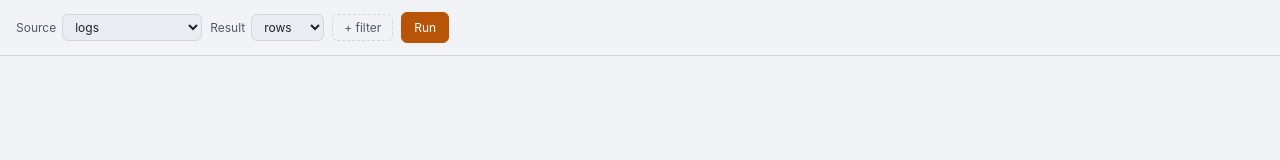
Scenario: QueryView › renders a short cell as plain text with no copy button
Click the button "Run" at (425, 28), box [401,12,449,43]
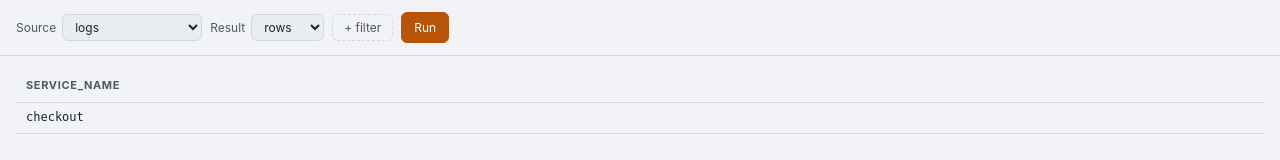
Result: the text "checkout" is shown at [26,110,84,124]
